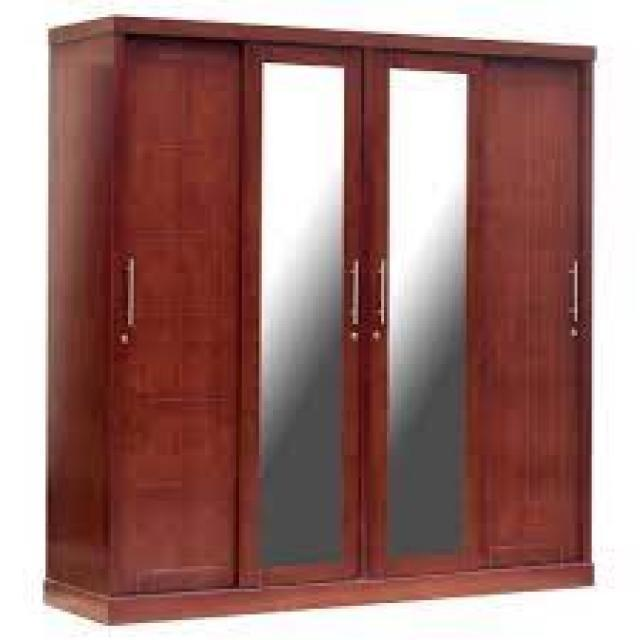Lemari: (42, 14, 595, 625)
